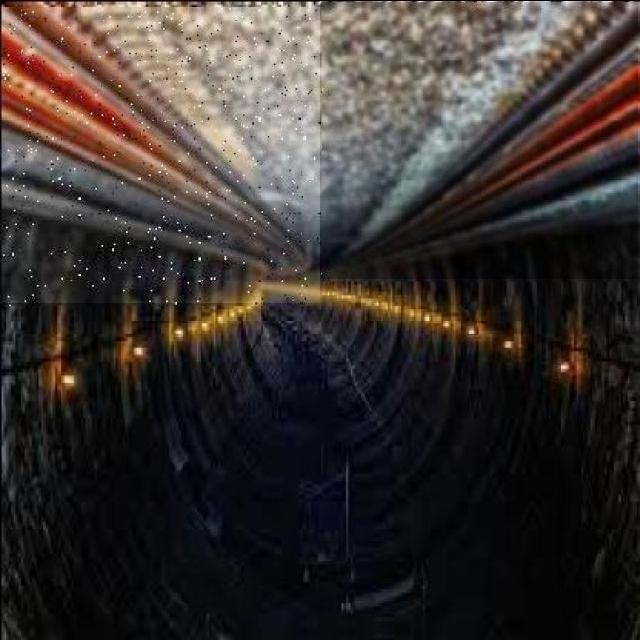rail: (2, 8, 321, 304), (322, 2, 639, 280)
